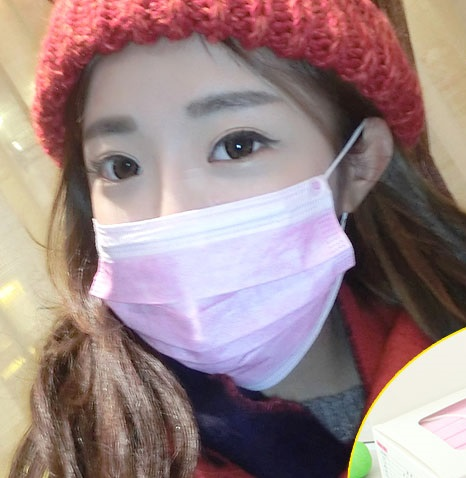face_mask: (76, 21, 334, 366)
